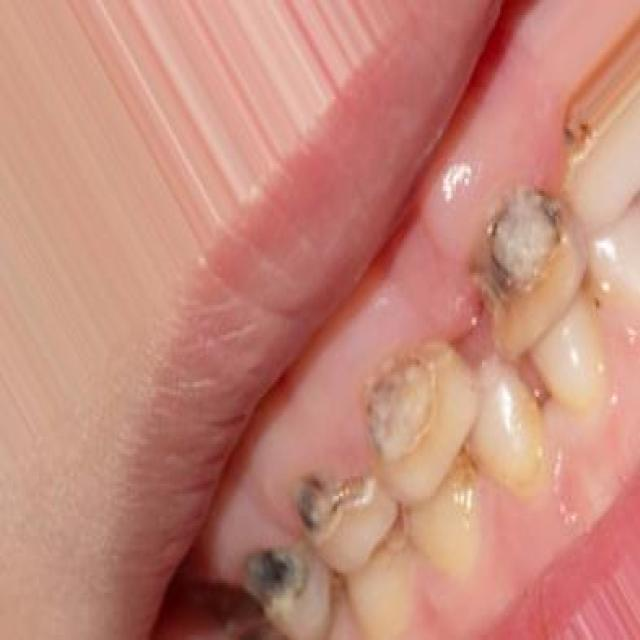caries: (466, 191, 578, 335), (356, 334, 464, 466), (238, 531, 329, 640), (285, 459, 388, 555)
